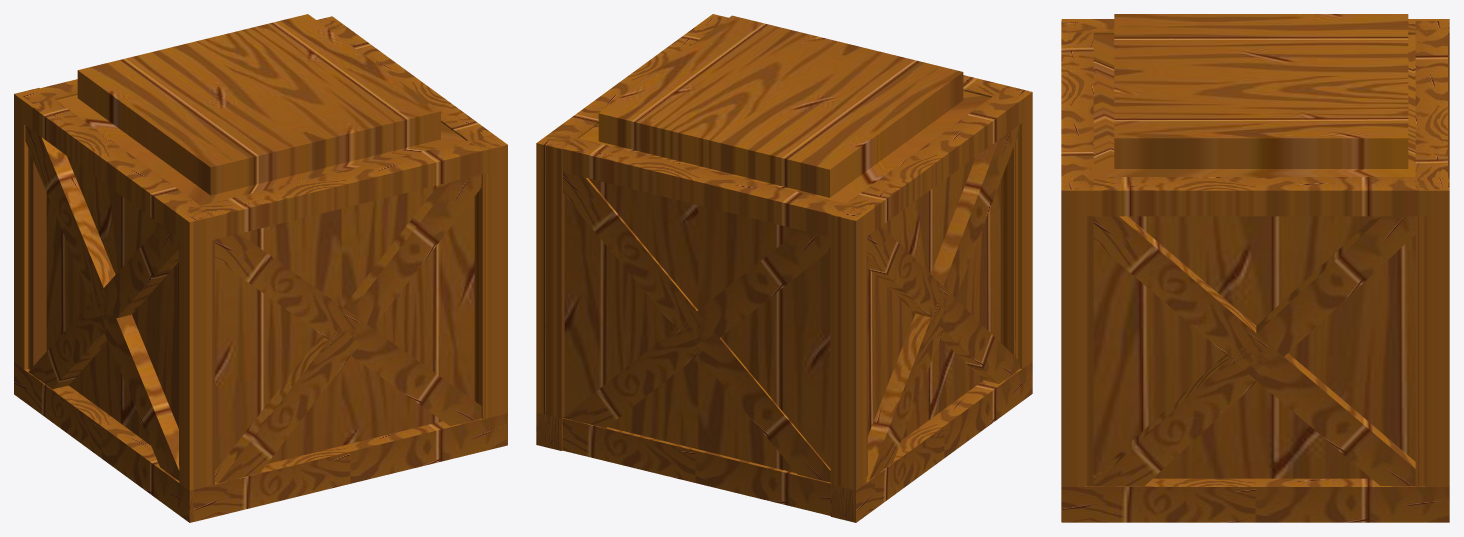
Rendered from ingredients.fbx.
3 renders of one model, left to right at view 1: azimuth 30°, elevation 25°; view 2: azimuth 150°, elevation 25°; view 3: azimuth 270°, elevation 25°, orthographic. The views are drawn at different scales.
Visible parts, largest first — view 1: pCube4, CrossWood1, CrossWood2, CrossWood3, CrossWood; view 2: pCube4, CrossWood2, CrossWood, CrossWood3, CrossWood1; view 3: pCube4, CrossWood3, CrossWood, CrossWood1, CrossWood2.
Part boxes in pixels (x1,y1,x2,y2): pCube4: (46, 14, 474, 470); CrossWood1: (179, 134, 506, 521); CrossWood2: (14, 88, 214, 522); CrossWood3: (316, 16, 507, 445); CrossWood: (19, 17, 345, 369); pCube4: (564, 15, 1000, 473); CrossWood2: (830, 86, 1032, 522); CrossWood: (544, 132, 867, 515); CrossWood3: (536, 14, 728, 450); CrossWood1: (707, 16, 1028, 359); pCube4: (1093, 14, 1415, 478); CrossWood3: (1061, 177, 1449, 522); CrossWood: (1415, 21, 1447, 486); CrossWood1: (1061, 21, 1094, 521); CrossWood2: (1061, 19, 1449, 176).
Bounding box in the file's own units: 3.71 × 3.65 × 3.55.
1 material, 1 textured.
